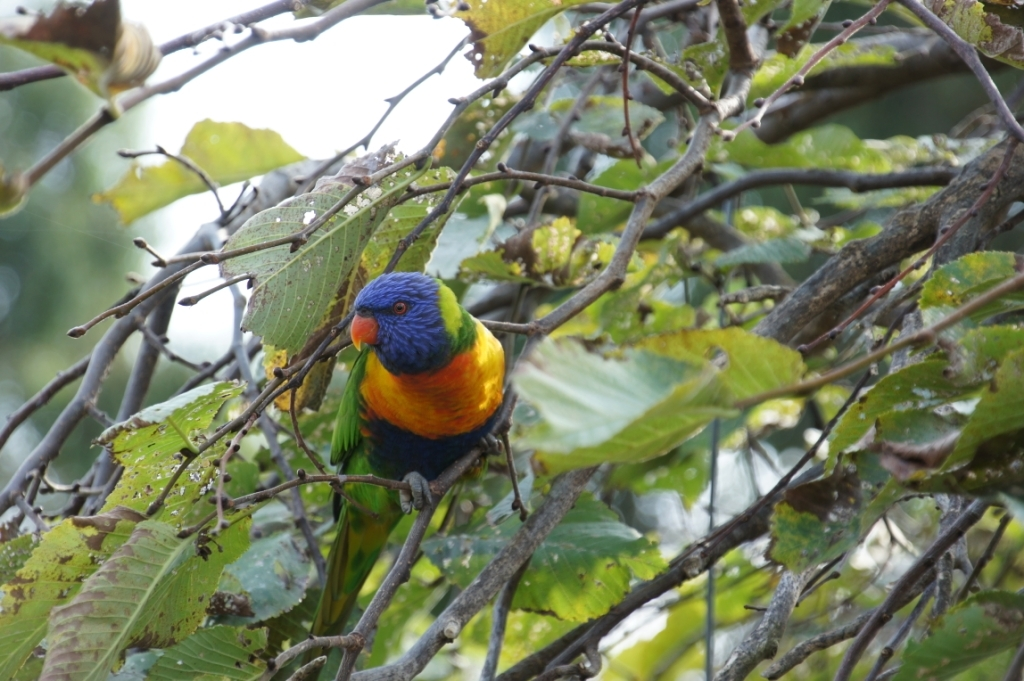Tree: (5, 34, 995, 664)
